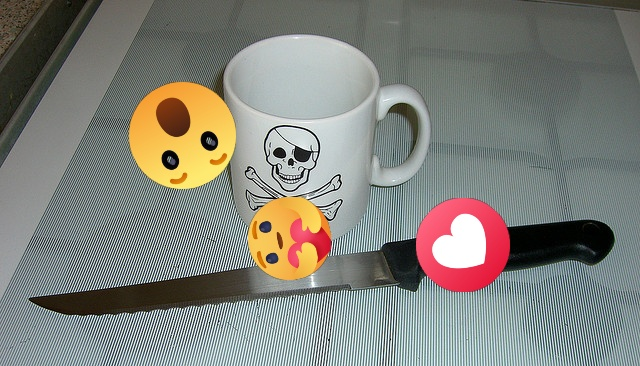care: (248, 197, 331, 280)
love: (416, 198, 510, 292)
wow: (129, 82, 236, 189)
